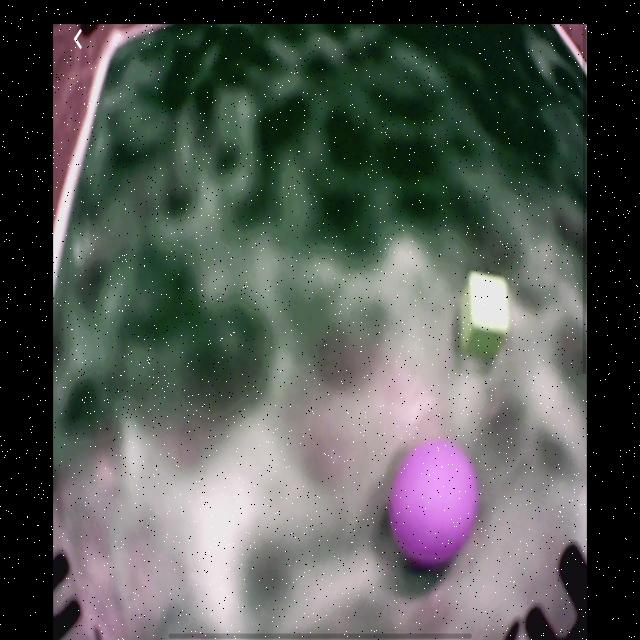ball: (393, 433, 478, 570)
